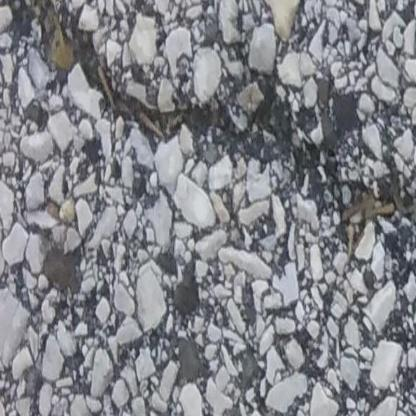Cracks: (0, 0, 416, 284)
